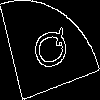Q: (24, 25, 72, 75)
